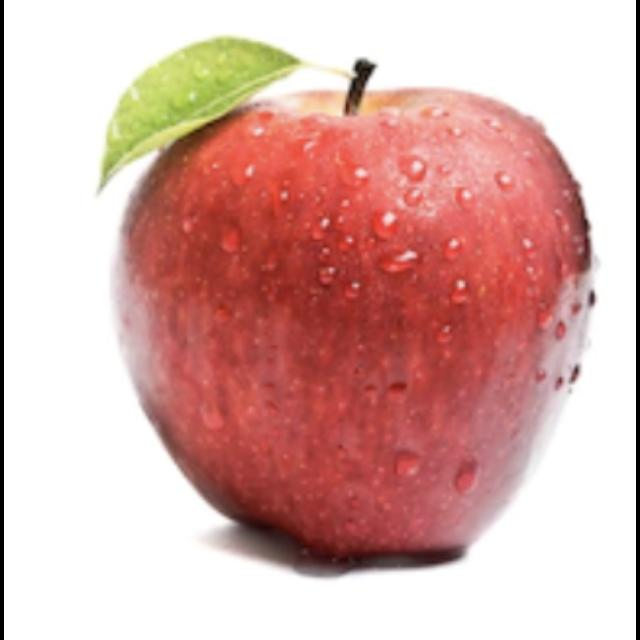Apel Segar: (102, 75, 602, 587)
